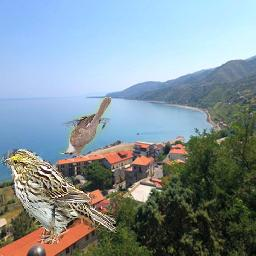Cuckoo: (59, 97, 112, 155)
Sparrow: (1, 150, 117, 245)
